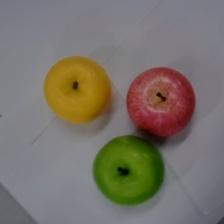green: (93, 135, 165, 205)
red: (127, 67, 196, 137)
yellow: (44, 56, 111, 124)
